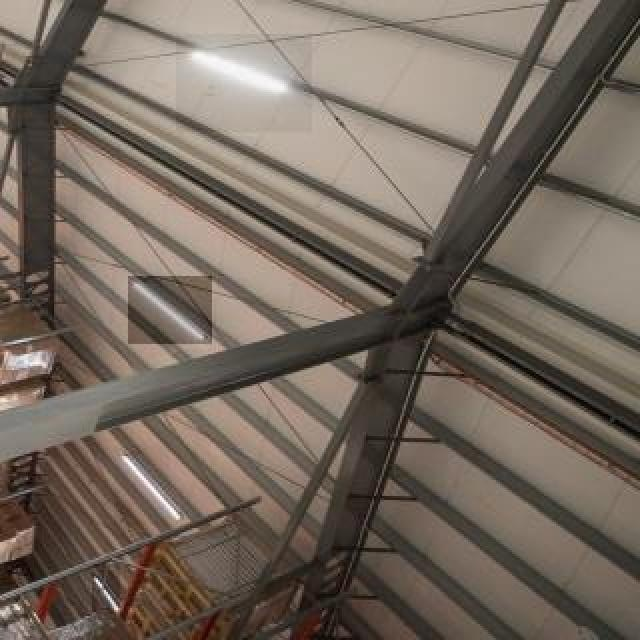fluorescent tube: (186, 42, 306, 102), (105, 446, 193, 526), (127, 278, 205, 346), (84, 566, 129, 637)
